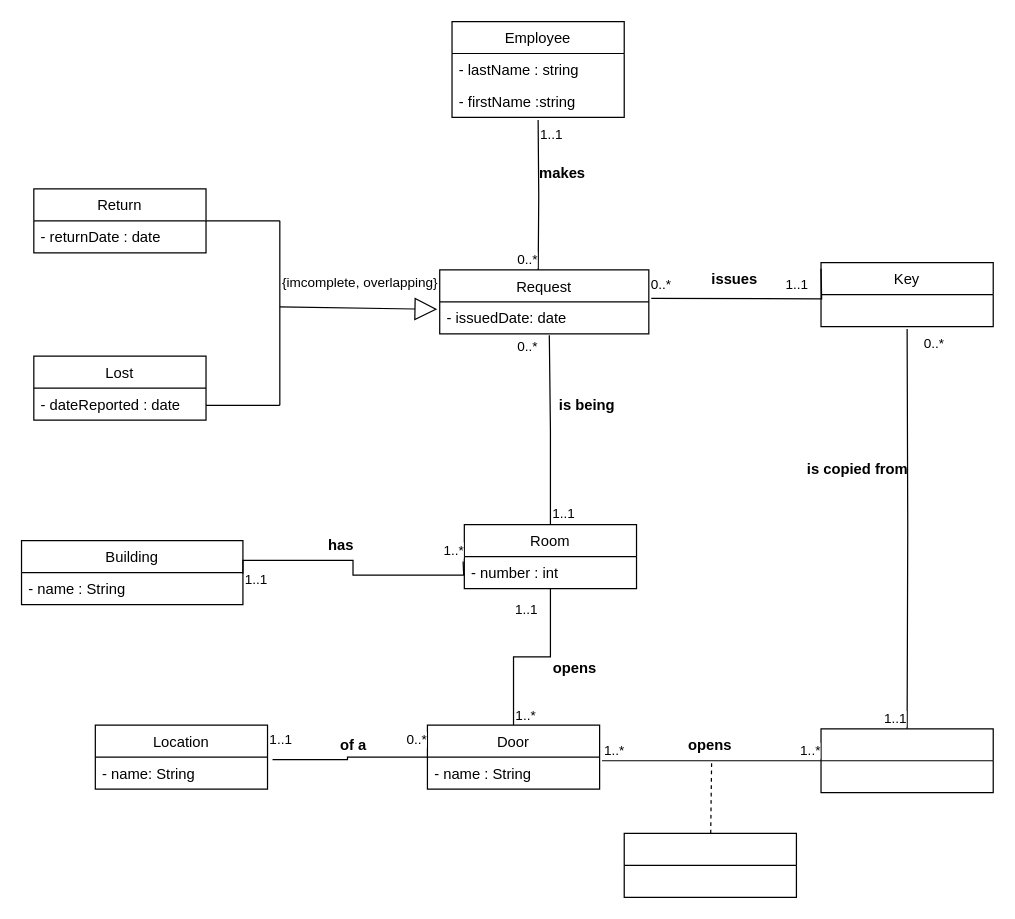
Some shapes in this 1015 by 919 pixel diagram are drawn without their labels. The centre of each missing label's shape, as x and y in pixels:
DoorHook: the point at 709,864
Hook: the point at 906,760
